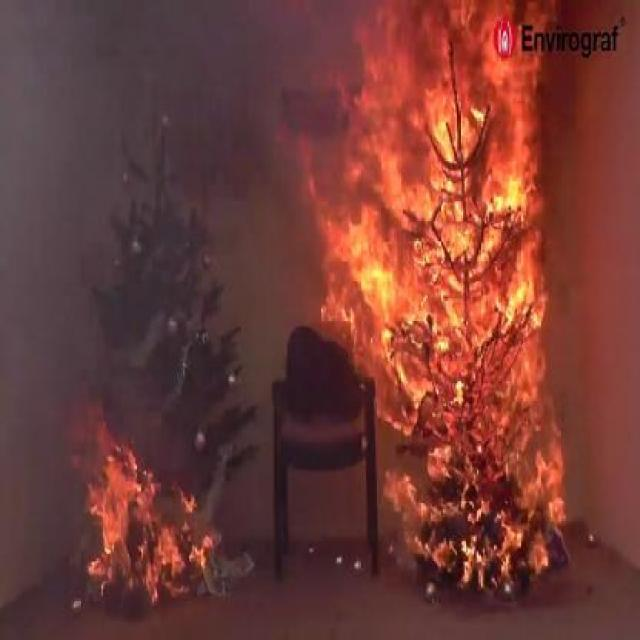fire: (347, 138, 567, 582), (65, 419, 218, 601)
smoke: (58, 59, 364, 296)
